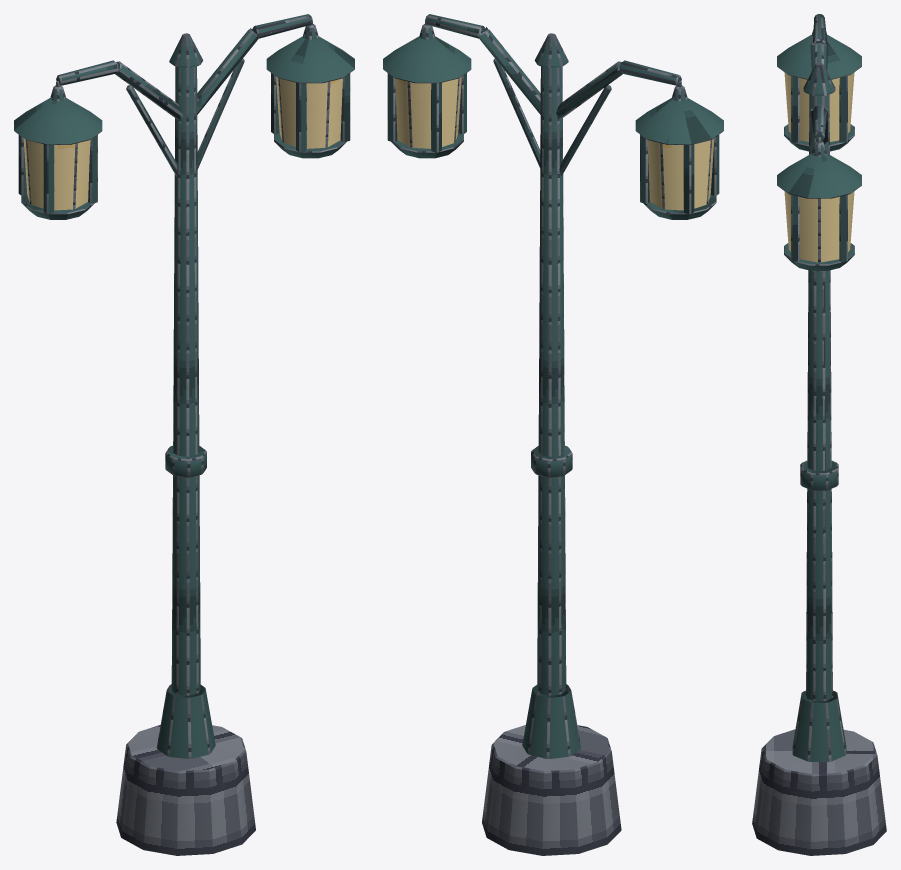
Rendered from street_lamp_2.glb.
3 views of the same model, side by side, from view 1: azimuth 30°, elevation 25°; view 2: azimuth 150°, elevation 25°; view 3: azimuth 270°, elevation 25° (orthographic). The views are drawn at different scales.
Visible parts, largest first — view 1: street_lamp_3; view 2: street_lamp_3; view 3: street_lamp_3.
Boxes of the visible parts, box(x1,y1,x2,y2) form: street_lamp_3: box(14, 14, 354, 855); street_lamp_3: box(383, 14, 723, 855); street_lamp_3: box(752, 14, 886, 855).
Size of the model in its own units: 1.51 by 3.47 by 0.5552.
3 materials, 3 textured.
